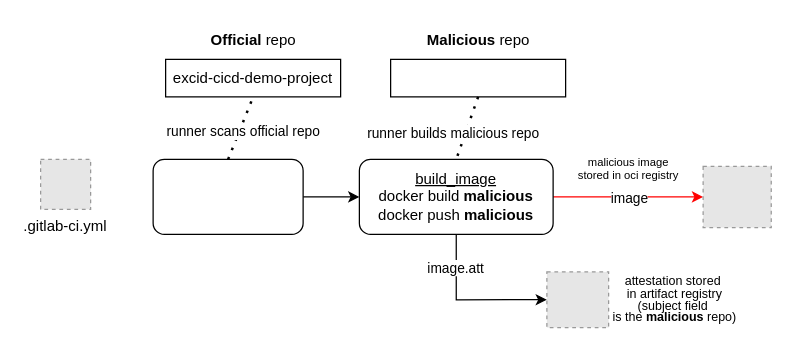
Image size: 793x353. Some labels were removed from this diagram. Grey dashed boxes stand in for pictures. Here are the shapes that lost their labels. From the top down, the centre of each, then its label:
At (477,77): "excid-civd-demo-project".
At (227,196): "secret scan, sast etc gitleaks dir .. sonar-scan ..".
